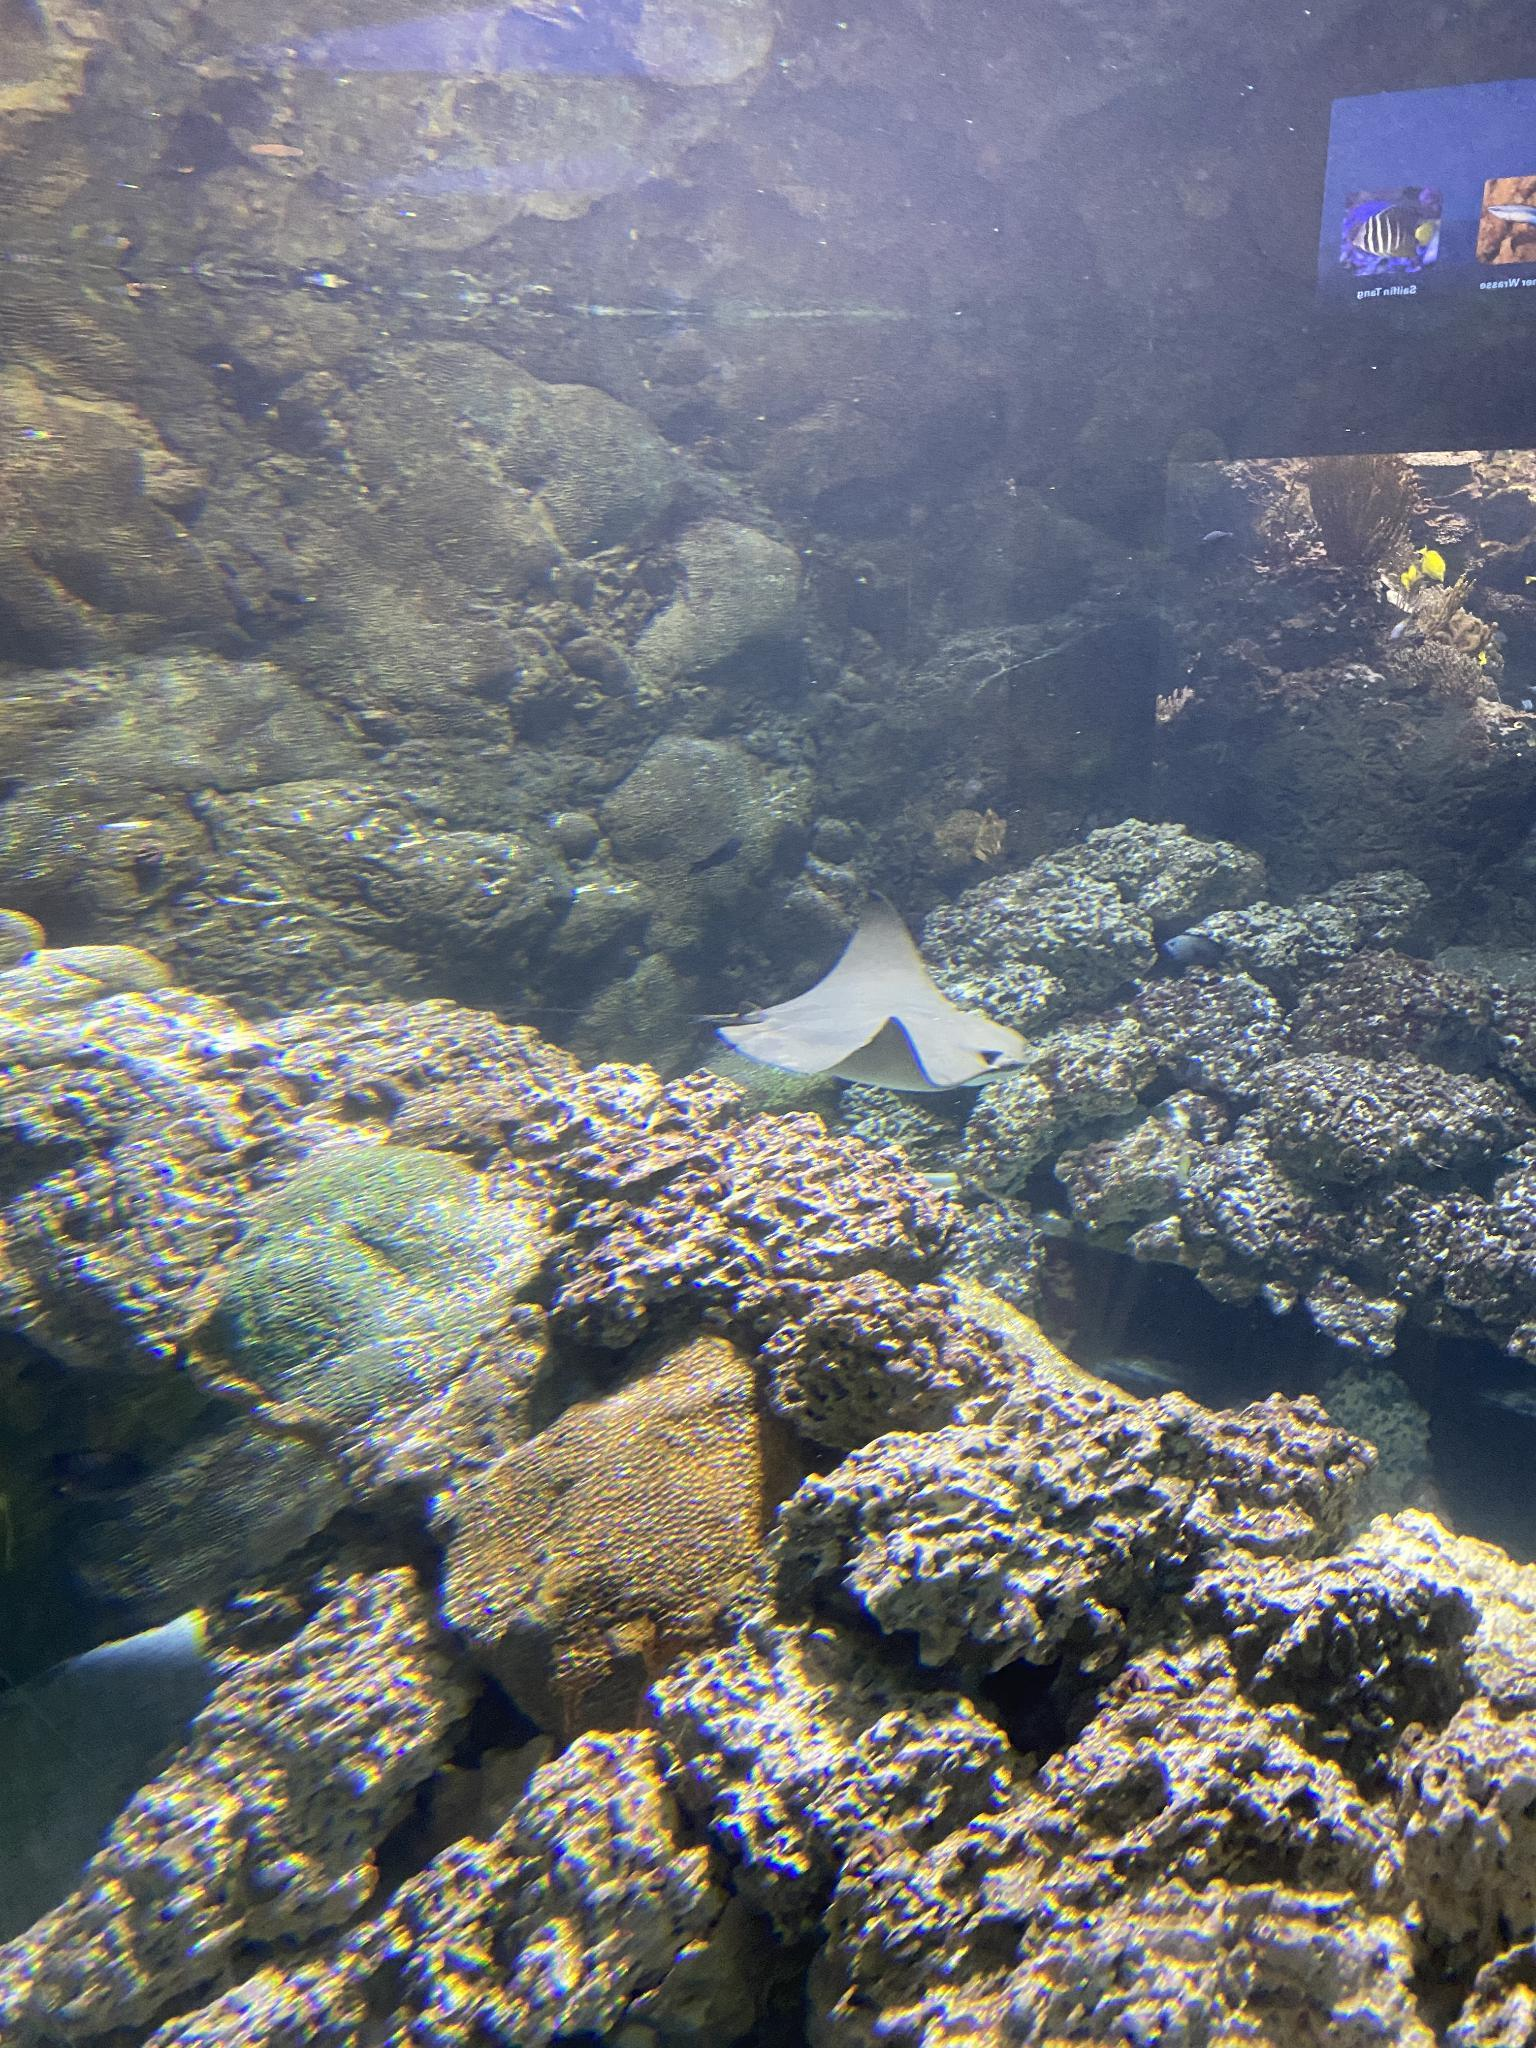stingray: (715, 885, 1031, 1085)
